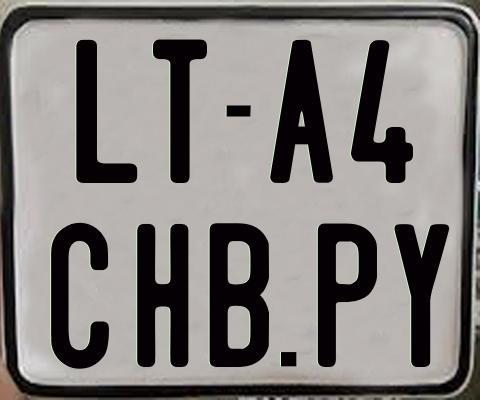4: (349, 37, 413, 180)
A: (267, 38, 333, 186)
B: (210, 223, 275, 368)
C: (51, 223, 109, 375)
H: (134, 221, 192, 367)
L: (73, 37, 135, 184)
P: (315, 220, 377, 364)
T: (152, 36, 208, 185)
Y: (394, 221, 454, 367)
